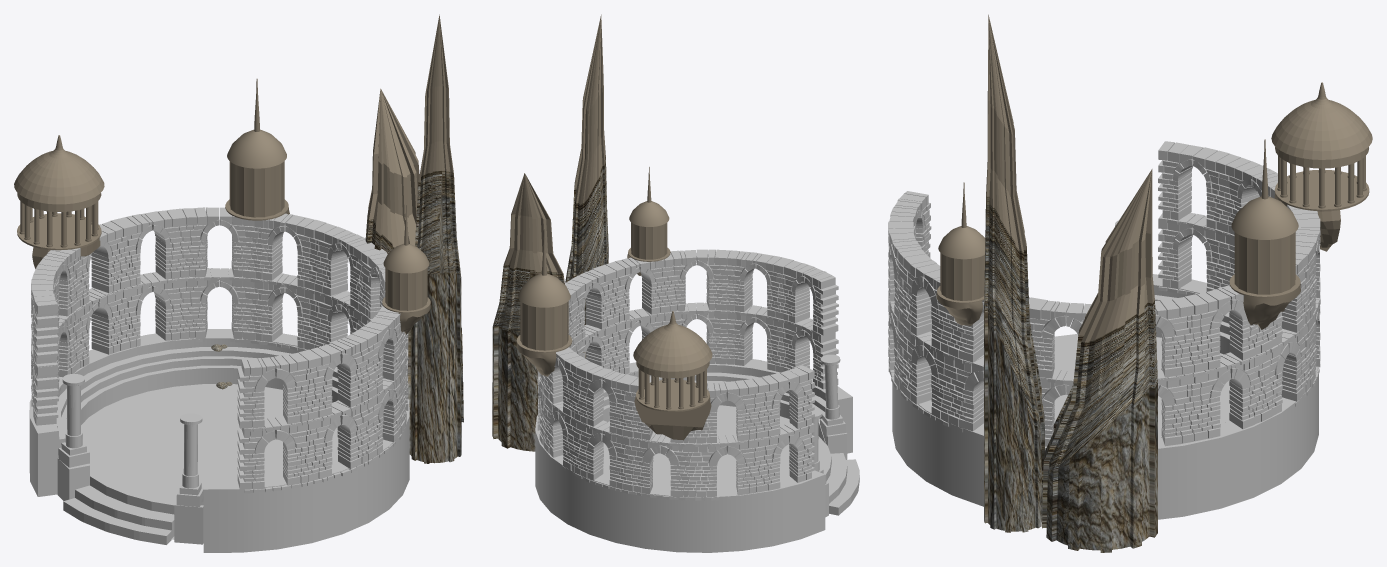
The model's file is ArenaEmpty.obj.
3 renders of one model, left to right at view 1: azimuth 30°, elevation 25°; view 2: azimuth 150°, elevation 25°; view 3: azimuth 270°, elevation 25°, orthographic. The views are drawn at different scales.
Parts seen in each view (by area): view 1: Wall.001, Wall, arena, rzad3.001, Cylinder.014, Circle.002, Cylinder.002, Circle.003, rzad1, Circle.004, rzad3, rzad2 (+3 smaller); view 2: Wall.001, Wall, rzad3.001, Cylinder.002, Circle.002, Cylinder.014, arena, Circle.003, Circle.004, Cylinder.005, Circle.001, rzad3 (+1 smaller); view 3: Wall.001, Cylinder.002, Wall, Cylinder.014, rzad3.001, Circle.002, Circle.003, Circle.004, arena, Circle.001, Circle.005.
Boxes of the visible parts, box(x1,y1,x2,y2) form: Wall.001: box(31, 207, 408, 431); Wall: box(31, 269, 408, 493); arena: box(57, 384, 338, 544); rzad3.001: box(29, 329, 409, 552); Cylinder.014: box(407, 14, 461, 463); Circle.002: box(14, 135, 104, 268); Cylinder.002: box(365, 88, 463, 422); Circle.003: box(227, 78, 286, 217); rzad1: box(81, 365, 338, 505); Circle.004: box(383, 204, 429, 310); rzad3: box(56, 347, 338, 447); rzad2: box(61, 356, 338, 432); Wall.001: box(537, 249, 838, 446); Wall: box(537, 304, 838, 500); rzad3.001: box(535, 360, 852, 552); Cylinder.002: box(492, 173, 564, 451); Circle.002: box(633, 311, 712, 440); Cylinder.014: box(565, 14, 608, 358); arena: box(603, 405, 859, 517); Circle.003: box(518, 229, 570, 350); Circle.004: box(629, 167, 669, 259); Cylinder.005: box(820, 354, 846, 436); Circle.001: box(516, 335, 572, 376); rzad3: box(603, 372, 844, 421); Wall.001: box(888, 141, 1320, 384); Cylinder.002: box(1042, 169, 1157, 552); Wall: box(888, 219, 1320, 446); Cylinder.014: box(984, 14, 1044, 532); rzad3.001: box(892, 274, 1318, 519); Circle.002: box(1271, 82, 1372, 251); Circle.003: box(1231, 139, 1298, 294); Circle.004: box(938, 182, 985, 300); arena: box(1050, 334, 1230, 437); Circle.001: box(1229, 274, 1300, 329); Circle.005: box(936, 286, 984, 325).
Bounding box in the file's own units: 16.57 × 18.21 × 15.68.
1 material, 1 textured.
